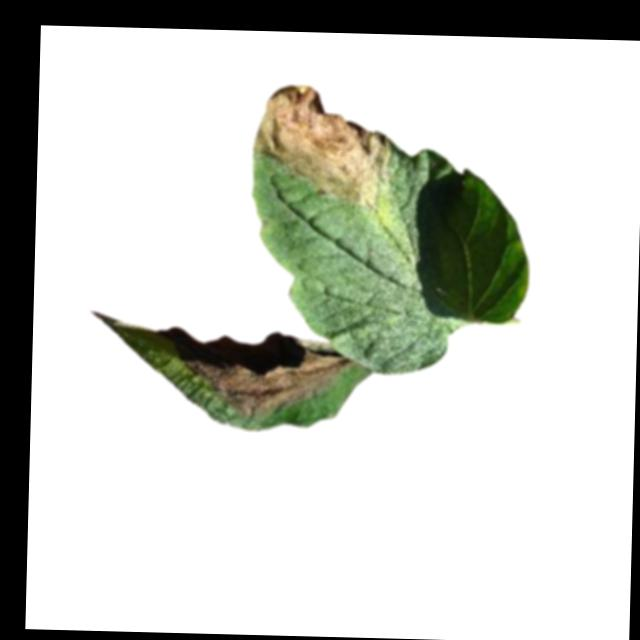Late_blight: (251, 81, 398, 211), (182, 347, 345, 420)
